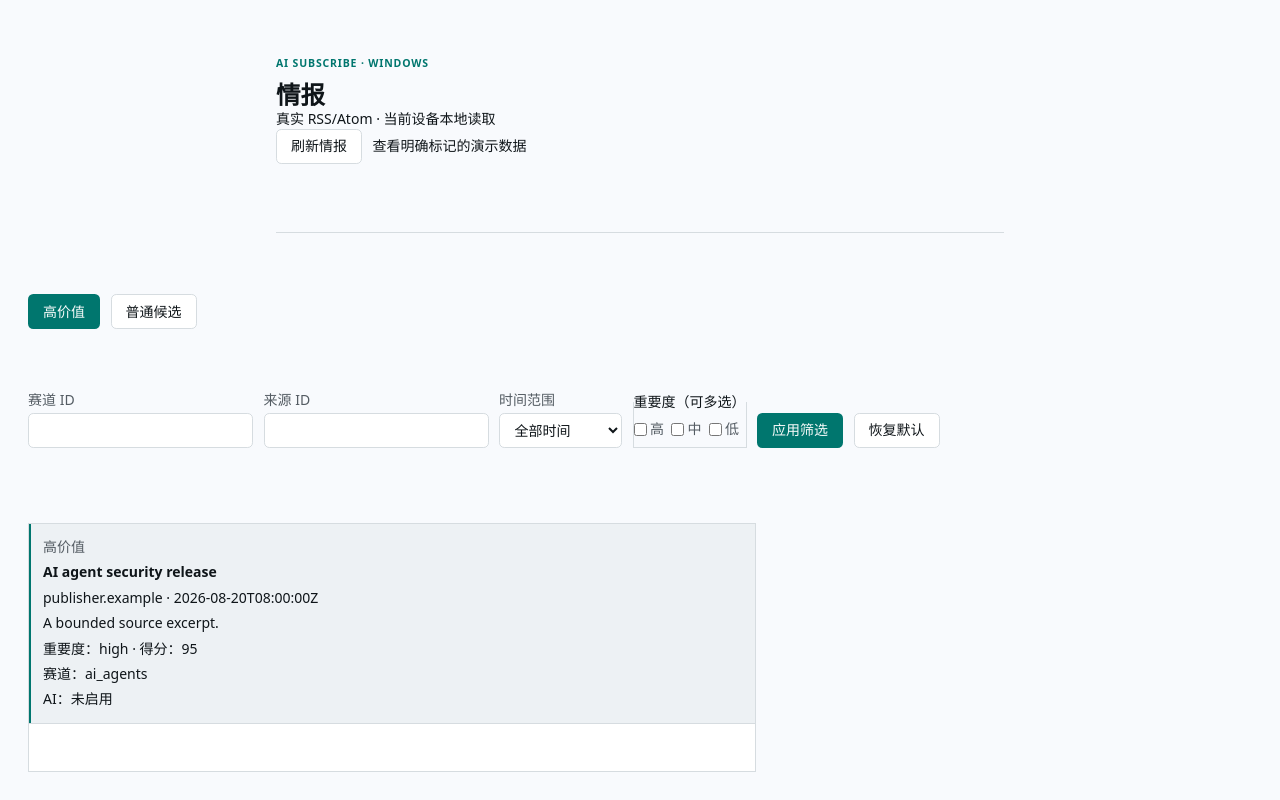
IntelFeed › 普通候选入口可达且不会删除候选
The width and height of the screenshot is (1280, 800).
Expected: the text "AI agent security release" is shown, 43,562 -> 217,581
Click the button "普通候选".
click(154, 312)  # box 110,294 -> 196,329
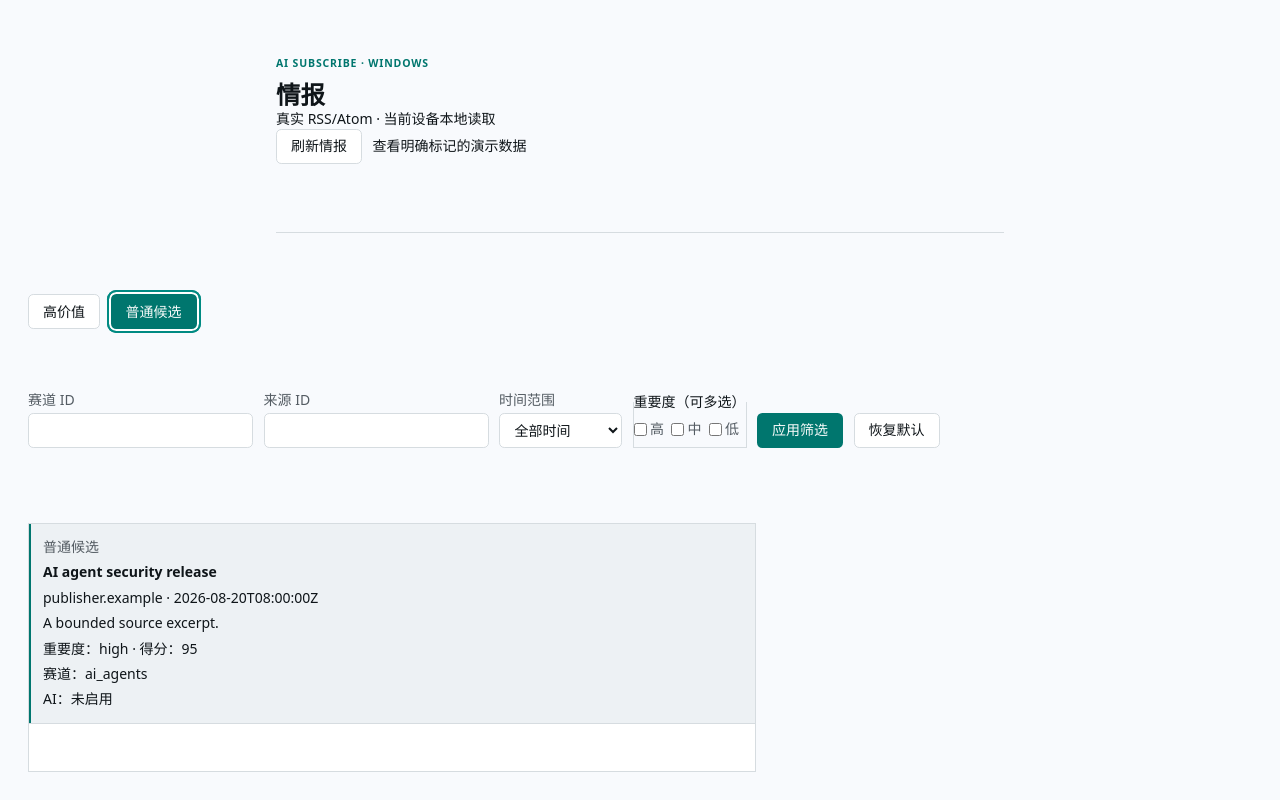
Expected: the text "普通候选" is shown, 43,537 -> 99,556
